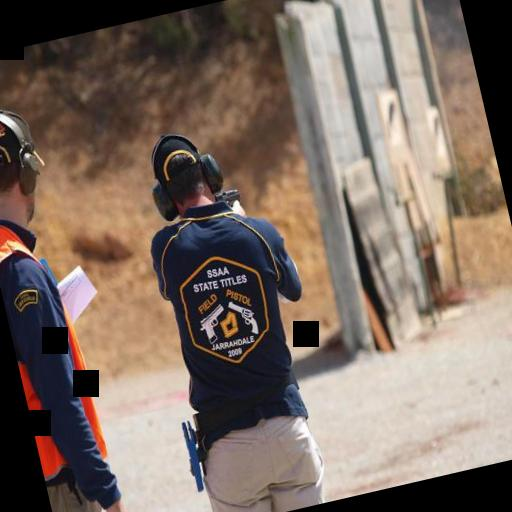Handgun: (210, 183, 246, 217)
